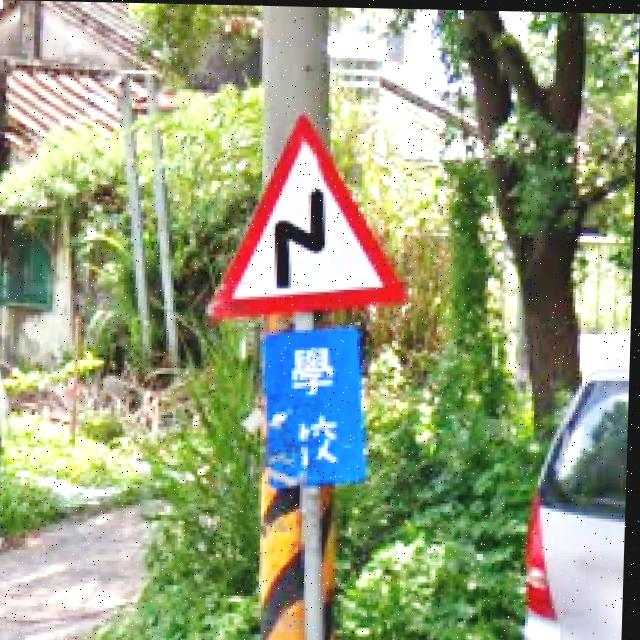doublebendright: (210, 114, 410, 321)
